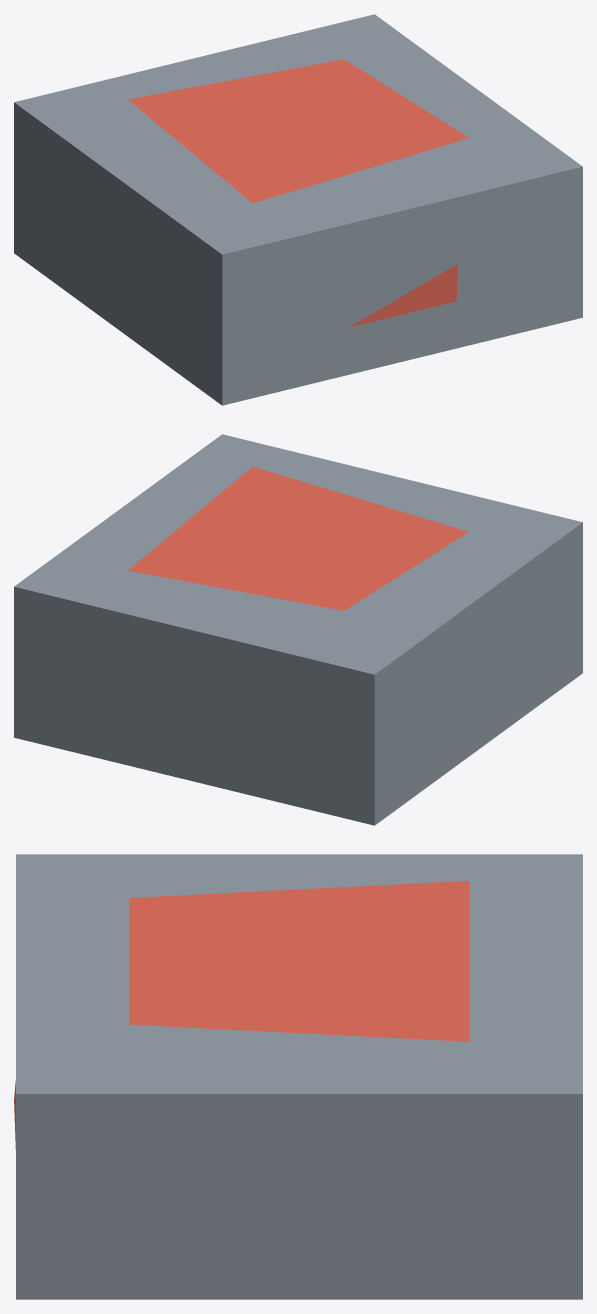
The model's file is SU_NavalYard_LOD1.glb.
3 views of the same model, one above another, from view 1: azimuth 30°, elevation 25°; view 2: azimuth 150°, elevation 25°; view 3: azimuth 270°, elevation 25° (orthographic). The views are drawn at different scales.
Parts seen in each view (by area): view 1: EntranceGate; view 2: EntranceGate; view 3: EntranceGate.
Part boxes in pixels (x1,y1,x2,y2): EntranceGate: (14, 14, 582, 405); EntranceGate: (14, 434, 582, 825); EntranceGate: (14, 854, 582, 1299).
Bounding box in the file's own units: 1000 × 442 × 1003.
